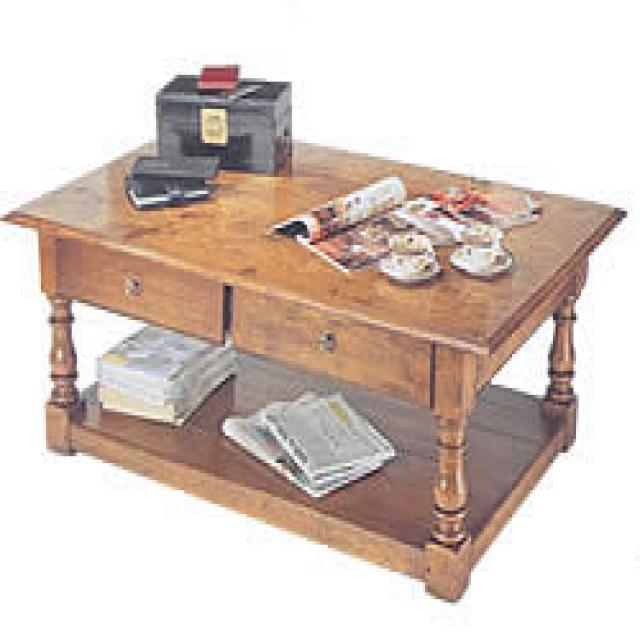table: (1, 125, 628, 603)
